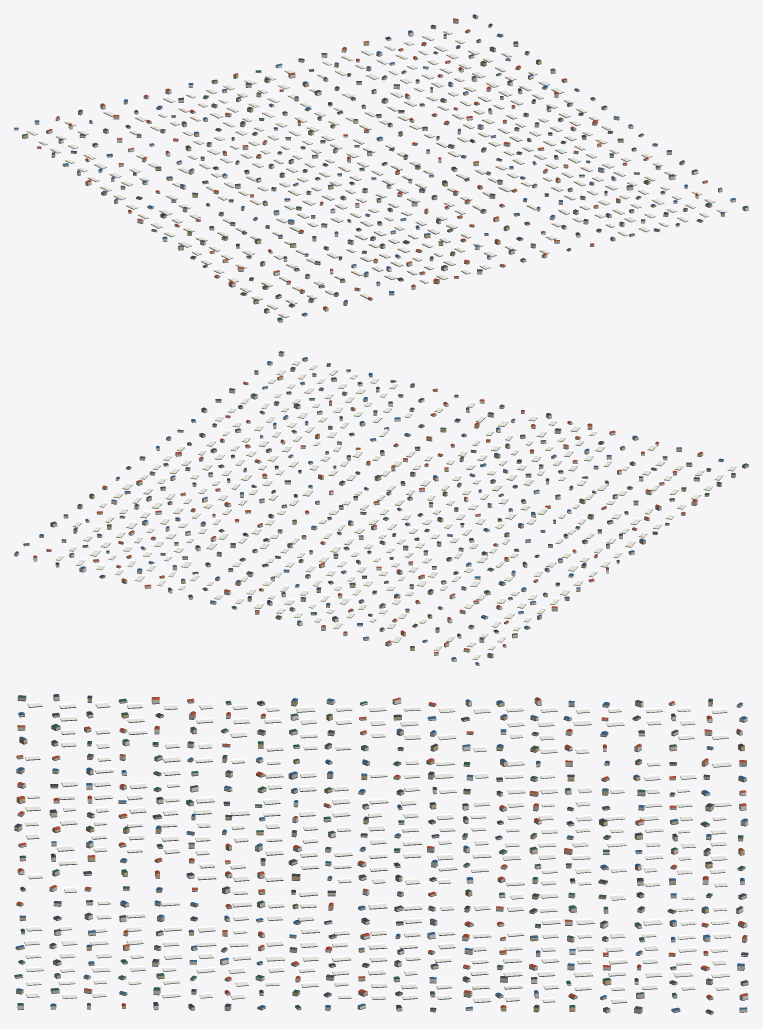
The model's file is buildings_T_W01_S07.glb.
3 renders of one model, top to bottom at view 1: azimuth 30°, elevation 25°; view 2: azimuth 150°, elevation 25°; view 3: azimuth 270°, elevation 25°, orthographic. The views are drawn at different scales.
Visible parts, largest first — view 1: T_W01_S07_roofs_agri_greenhouse_arch, T_W01_S07_slope_seating_foundations, T_W01_S07_walls_wall_modern_warm_white, T_W01_S07_walls_wall_french_ochre_villa, T_W01_S07_walls_wall_pastel_sand_gray, T_W01_S07_roofs_roof_slate_French_villa_hip, T_W01_S07_walls_wall_dalat_cream_stucco, T_W01_S07_roofs_roof_terracotta_gable, T_W01_S07_roofs_roof_highland_blue_gable, T_W01_S07_roofs_roof_pine_green_hip; view 2: T_W01_S07_roofs_agri_greenhouse_arch, T_W01_S07_slope_seating_foundations, T_W01_S07_walls_wall_pastel_sand_gray, T_W01_S07_walls_wall_french_ochre_villa, T_W01_S07_walls_wall_modern_warm_white, T_W01_S07_roofs_roof_slate_French_villa_hip, T_W01_S07_walls_wall_dalat_cream_stucco, T_W01_S07_roofs_roof_terracotta_gable, T_W01_S07_roofs_roof_highland_blue_gable, T_W01_S07_roofs_roof_pine_green_hip; view 3: T_W01_S07_roofs_agri_greenhouse_arch, T_W01_S07_slope_seating_foundations, T_W01_S07_walls_wall_pastel_sand_gray, T_W01_S07_walls_wall_modern_warm_white, T_W01_S07_walls_wall_french_ochre_villa, T_W01_S07_roofs_roof_slate_French_villa_hip, T_W01_S07_walls_wall_dalat_cream_stucco, T_W01_S07_roofs_roof_terracotta_gable, T_W01_S07_roofs_roof_highland_blue_gable, T_W01_S07_roofs_roof_pine_green_hip.
Boxes of the visible parts, box(x1,y1,x2,y2) form: T_W01_S07_roofs_agri_greenhouse_arch: box(26, 29, 727, 317); T_W01_S07_slope_seating_foundations: box(14, 17, 748, 322); T_W01_S07_walls_wall_modern_warm_white: box(14, 19, 748, 298); T_W01_S07_walls_wall_french_ochre_villa: box(22, 42, 724, 305); T_W01_S07_walls_wall_pastel_sand_gray: box(77, 26, 712, 322); T_W01_S07_roofs_roof_slate_French_villa_hip: box(58, 23, 697, 310); T_W01_S07_walls_wall_dalat_cream_stucco: box(51, 15, 722, 315); T_W01_S07_roofs_roof_terracotta_gable: box(37, 18, 707, 308); T_W01_S07_roofs_roof_highland_blue_gable: box(14, 14, 735, 315); T_W01_S07_roofs_roof_pine_green_hip: box(22, 34, 748, 320); T_W01_S07_roofs_agri_greenhouse_arch: box(55, 359, 736, 659); T_W01_S07_slope_seating_foundations: box(14, 355, 748, 665); T_W01_S07_walls_wall_pastel_sand_gray: box(39, 368, 748, 646); T_W01_S07_walls_wall_french_ochre_villa: box(77, 358, 721, 657); T_W01_S07_walls_wall_modern_warm_white: box(33, 352, 699, 665); T_W01_S07_roofs_roof_slate_French_villa_hip: box(23, 377, 735, 647); T_W01_S07_walls_wall_dalat_cream_stucco: box(14, 370, 735, 646); T_W01_S07_roofs_roof_terracotta_gable: box(33, 375, 702, 653); T_W01_S07_roofs_roof_highland_blue_gable: box(14, 357, 723, 664); T_W01_S07_roofs_roof_pine_green_hip: box(50, 351, 748, 655); T_W01_S07_roofs_agri_greenhouse_arch: box(24, 701, 731, 1002); T_W01_S07_slope_seating_foundations: box(14, 699, 748, 1014); T_W01_S07_walls_wall_pastel_sand_gray: box(16, 697, 748, 1013); T_W01_S07_walls_wall_modern_warm_white: box(14, 699, 748, 1010); T_W01_S07_walls_wall_french_ochre_villa: box(15, 698, 747, 1011); T_W01_S07_roofs_roof_slate_French_villa_hip: box(14, 694, 748, 1012); T_W01_S07_walls_wall_dalat_cream_stucco: box(14, 695, 747, 1013); T_W01_S07_roofs_roof_terracotta_gable: box(16, 697, 748, 1007); T_W01_S07_roofs_roof_highland_blue_gable: box(16, 698, 747, 1011); T_W01_S07_roofs_roof_pine_green_hip: box(14, 695, 745, 1009).
Bounding box in the file's own units: 1754 × 38.29 × 1754.
